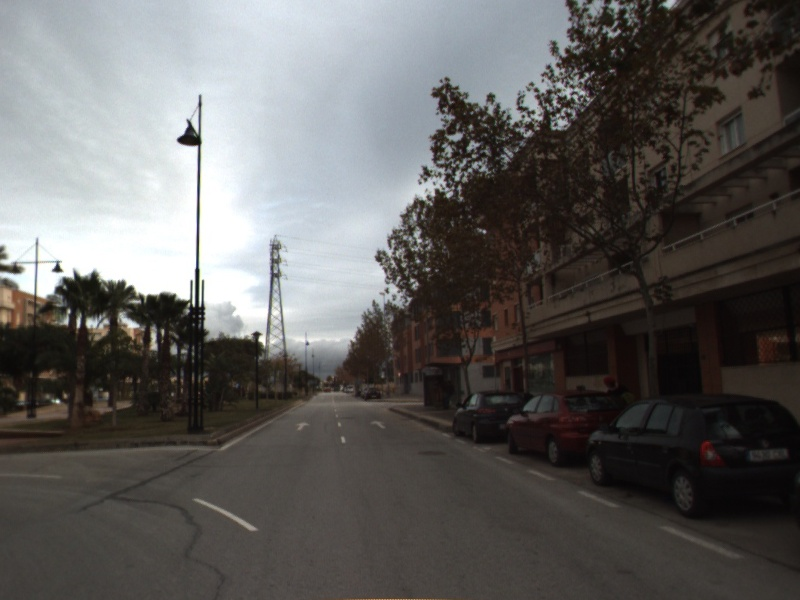STRAIGHT: (294, 419, 312, 432), (369, 418, 388, 430)
